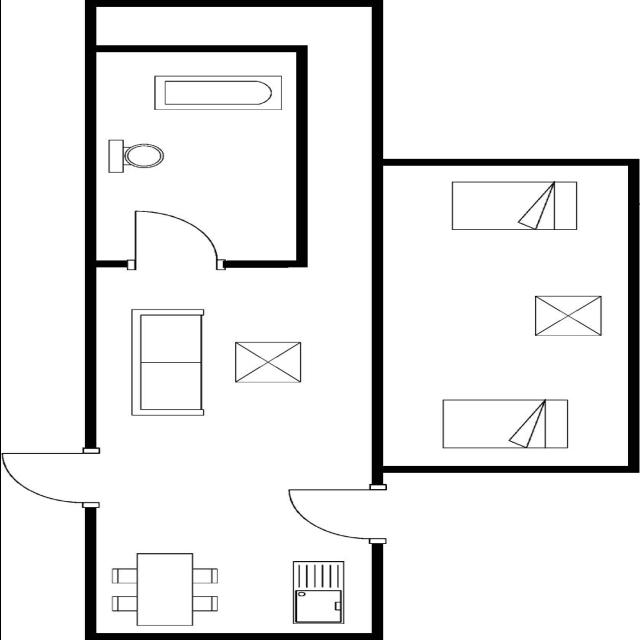bed: (437, 396, 573, 451), (444, 178, 580, 232)
coffee_table: (529, 292, 607, 340), (228, 340, 304, 386)
dining_table: (106, 550, 225, 628)
large_sink: (104, 138, 168, 174)
large_sofa: (125, 306, 212, 420)
sink: (290, 558, 348, 626)
tub: (149, 73, 287, 113)
